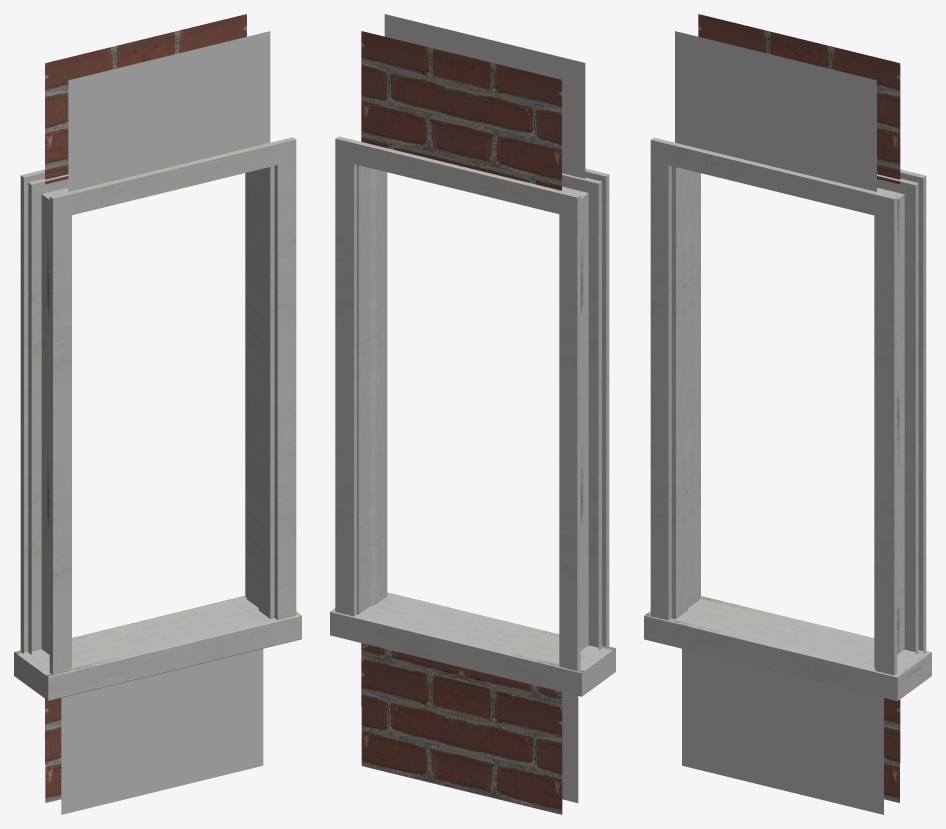
File: In_Wall_Door_Single_A_1x.FBX
The picture shows the model from 3 angles, left to right: view 1: azimuth 30°, elevation 25°; view 2: azimuth 150°, elevation 25°; view 3: azimuth 330°, elevation 25°; orthographic projection.
Visible parts, largest first — view 1: Wall_Door_Single_A_1x; view 2: Wall_Door_Single_A_1x; view 3: Wall_Door_Single_A_1x.
Part boxes in pixels (left/top/right/bottom): Wall_Door_Single_A_1x: left=14, top=14, right=301, bottom=814; Wall_Door_Single_A_1x: left=330, top=14, right=615, bottom=814; Wall_Door_Single_A_1x: left=644, top=14, right=931, bottom=814.
Size of the model in its own units: 125 by 350 by 29.4.
